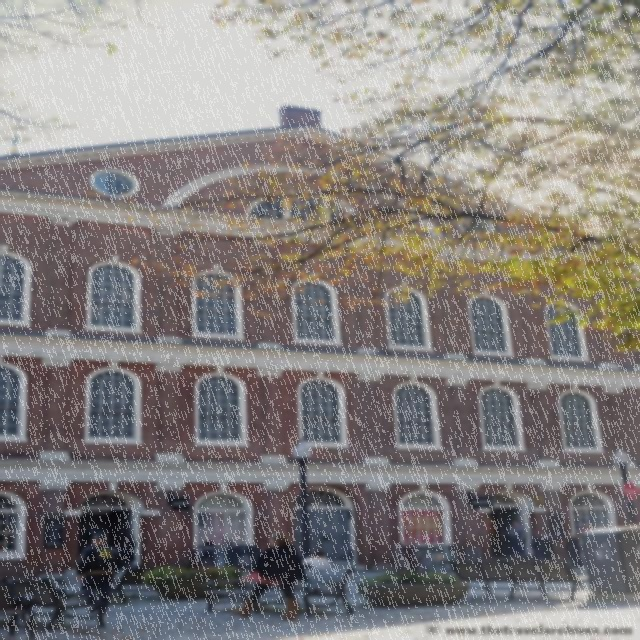pessoa: (84, 522, 325, 640), (230, 532, 310, 622), (73, 532, 124, 614), (499, 519, 527, 558), (564, 532, 584, 570), (116, 536, 138, 568), (529, 531, 551, 563), (301, 550, 333, 570), (194, 540, 216, 567), (578, 520, 600, 536), (543, 533, 556, 560)
